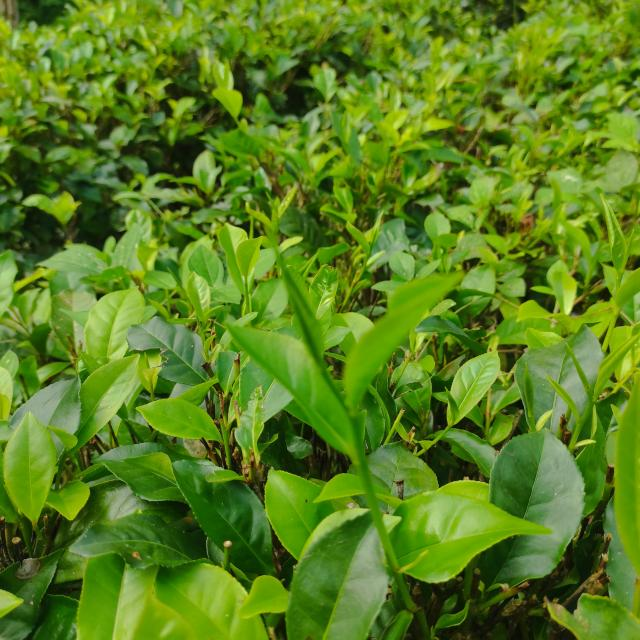unopened_leaf: (257, 213, 349, 398), (559, 333, 602, 405), (619, 218, 640, 270), (164, 264, 190, 298), (442, 384, 463, 426), (366, 209, 387, 250), (194, 314, 208, 346)
